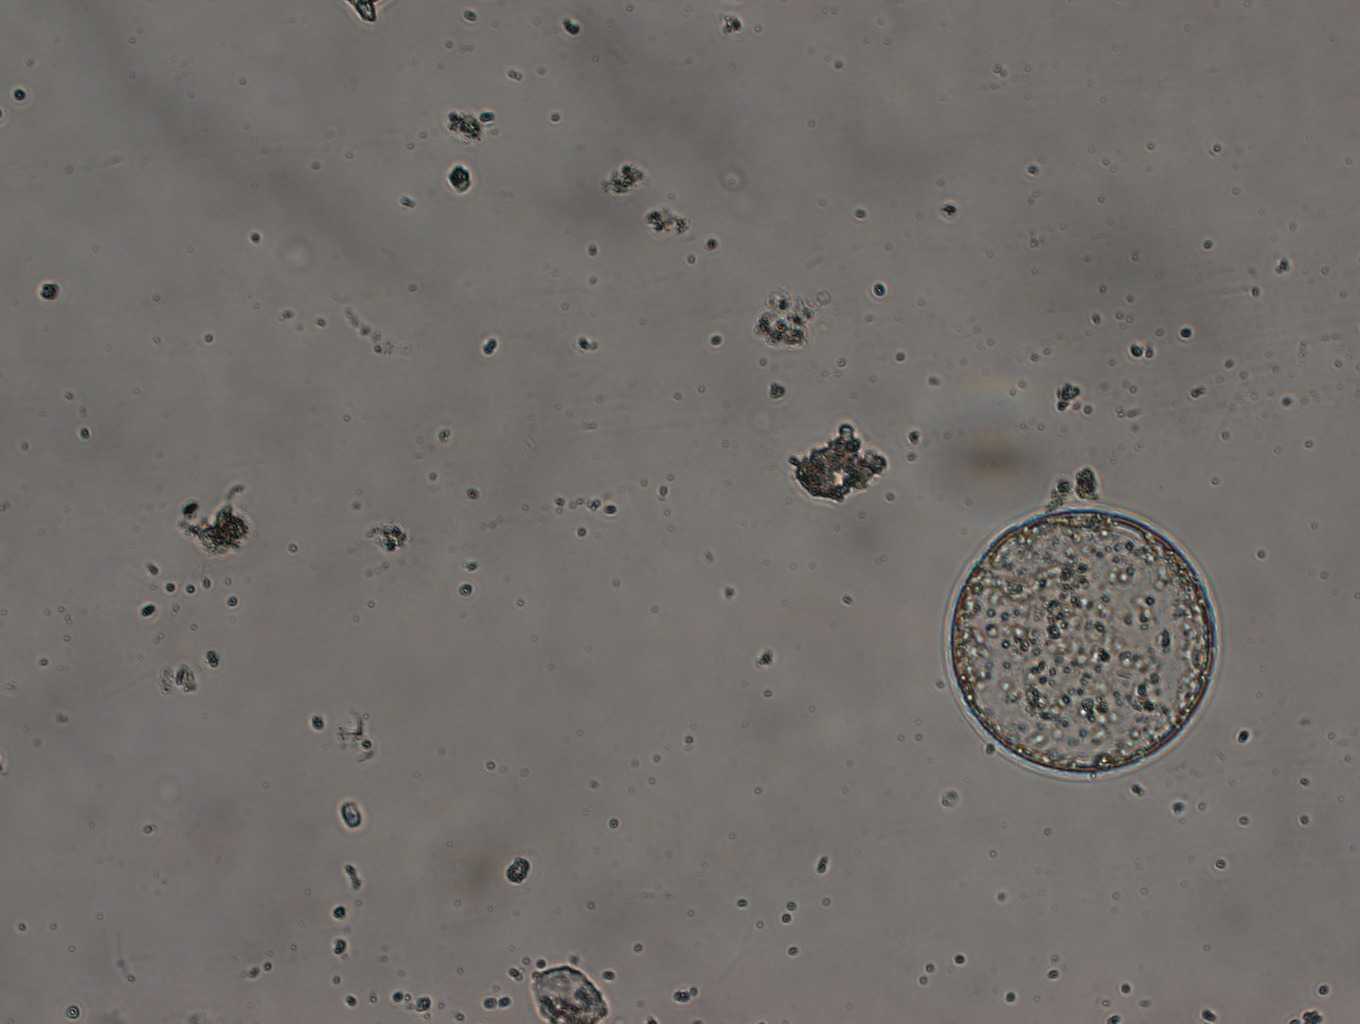coscinodiscus: (949, 508, 1219, 774)
